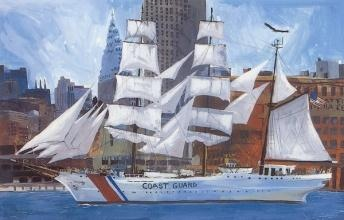fanchuan: (16, 5, 341, 200)
